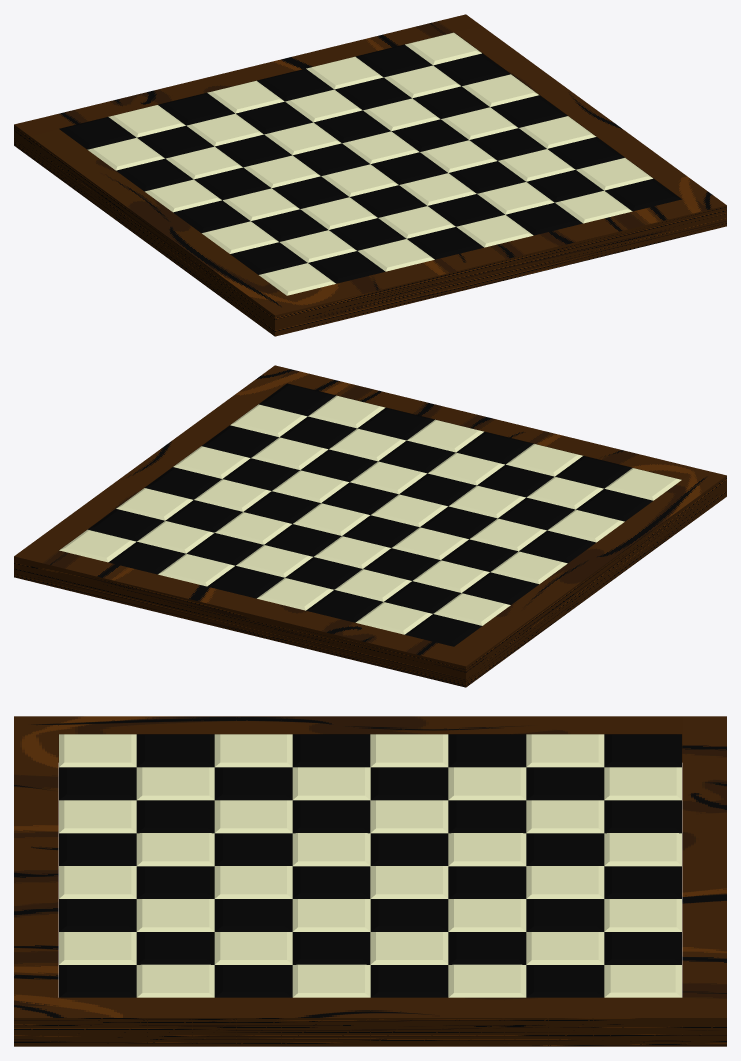
Rendered from checker_chess_board.glb.
The picture shows the model from 3 angles, top to bottom: view 1: azimuth 30°, elevation 25°; view 2: azimuth 150°, elevation 25°; view 3: azimuth 270°, elevation 25°; orthographic projection. The views are drawn at different scales.
Visible parts, largest first — view 1: board-edge; view 2: board-edge; view 3: board-edge.
Part boxes in pixels (bbox=[...]): board-edge: bbox=[14, 14, 726, 336]; board-edge: bbox=[14, 365, 726, 687]; board-edge: bbox=[14, 716, 726, 1046].
Size of the model in its own units: 2.7 by 0.136 by 2.7.
3 materials, 1 textured.
